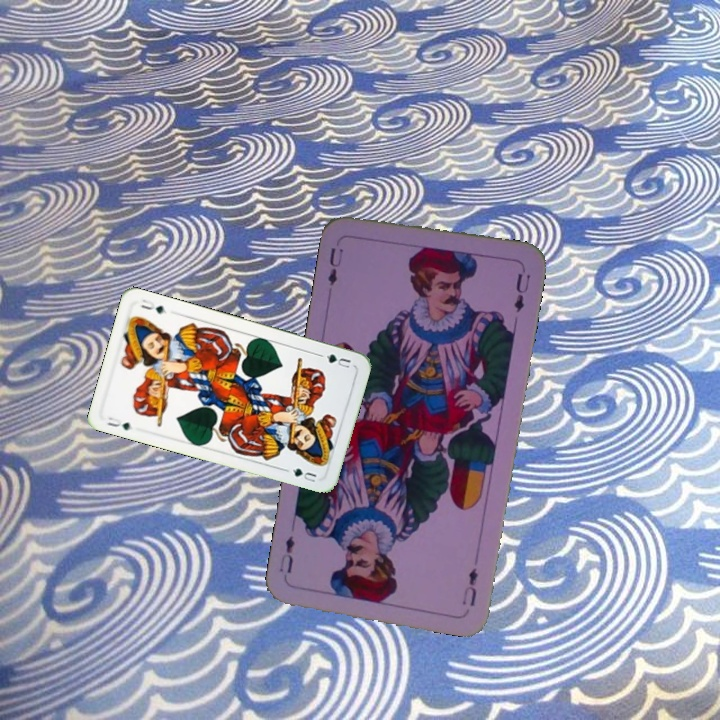EU: (323, 243, 346, 288), (458, 564, 481, 609)
GU: (316, 350, 353, 370), (103, 412, 136, 433)
